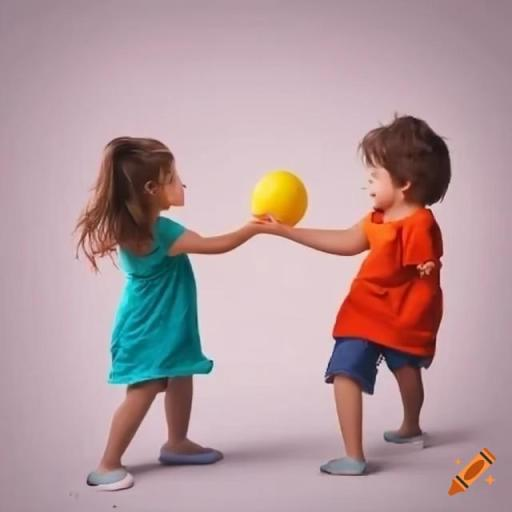baby: (82, 130, 226, 491), (321, 113, 446, 469)
